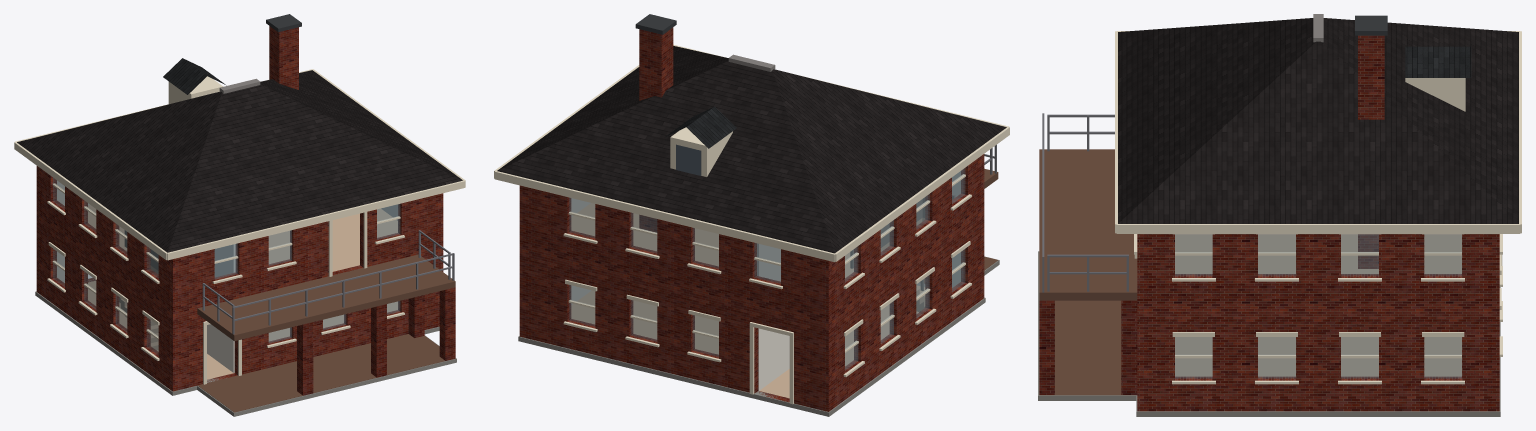
Rendered from mh-foreman-house.towns-v1.lod0.glb.
3 views of the same model, side by side, from view 1: azimuth 30°, elevation 25°; view 2: azimuth 150°, elevation 25°; view 3: azimuth 270°, elevation 25° (orthographic). The views are drawn at different scales.
Parts seen in each view (by area): view 1: mh-foreman-house; view 2: mh-foreman-house; view 3: mh-foreman-house.
Boxes of the visible parts, <box> form: mh-foreman-house: <box>14,14,465,416</box>; mh-foreman-house: <box>494,14,1009,416</box>; mh-foreman-house: <box>1038,14,1521,416</box>.
Size of the model in its own units: 12.18 by 10.14 by 12.82.
Materials: 6 (2 with a texture image).
